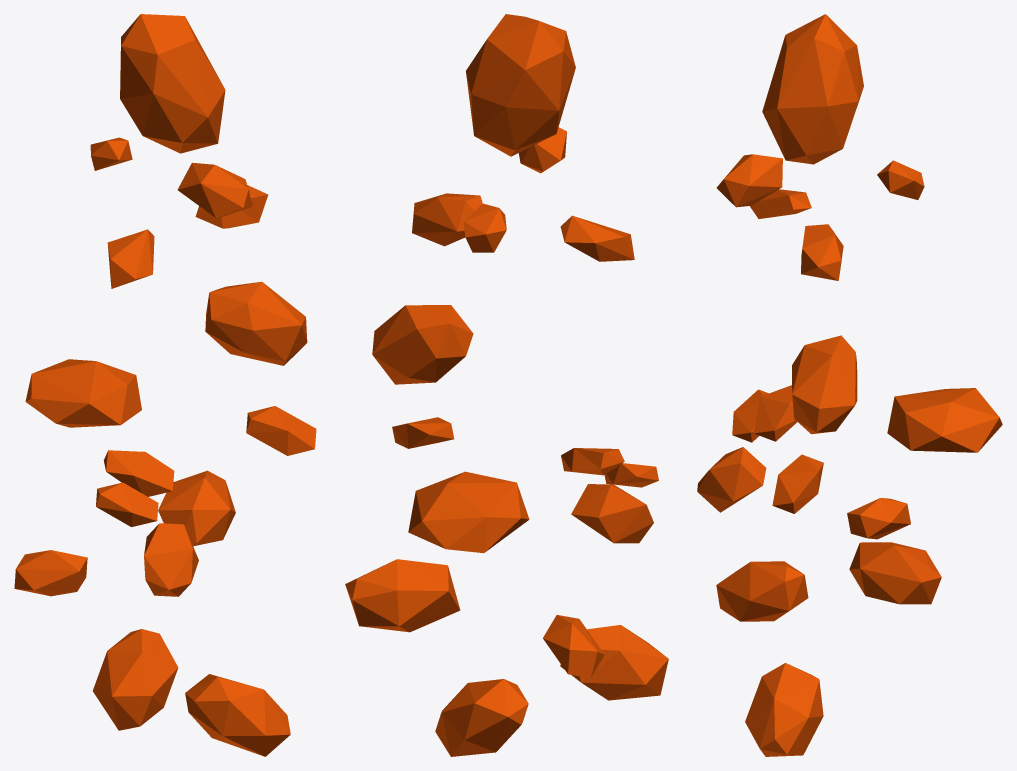
Rendered from tree-autumn-leaves-025.glb.
3 renders of one model, left to right at view 1: azimuth 30°, elevation 25°; view 2: azimuth 150°, elevation 25°; view 3: azimuth 270°, elevation 25°, orthographic. The views are drawn at different scales.
Parts seen in each view (by area): view 1: Icosphere.004_357; view 2: Icosphere.004_357; view 3: Icosphere.004_357.
Boxes of the visible parts, x1,y1,x2,y2 form: Icosphere.004_357: [14, 14, 316, 756]; Icosphere.004_357: [345, 14, 668, 756]; Icosphere.004_357: [697, 14, 1002, 756].
Bounding box in the file's own units: 0.7002 × 1.97 × 0.7792.
